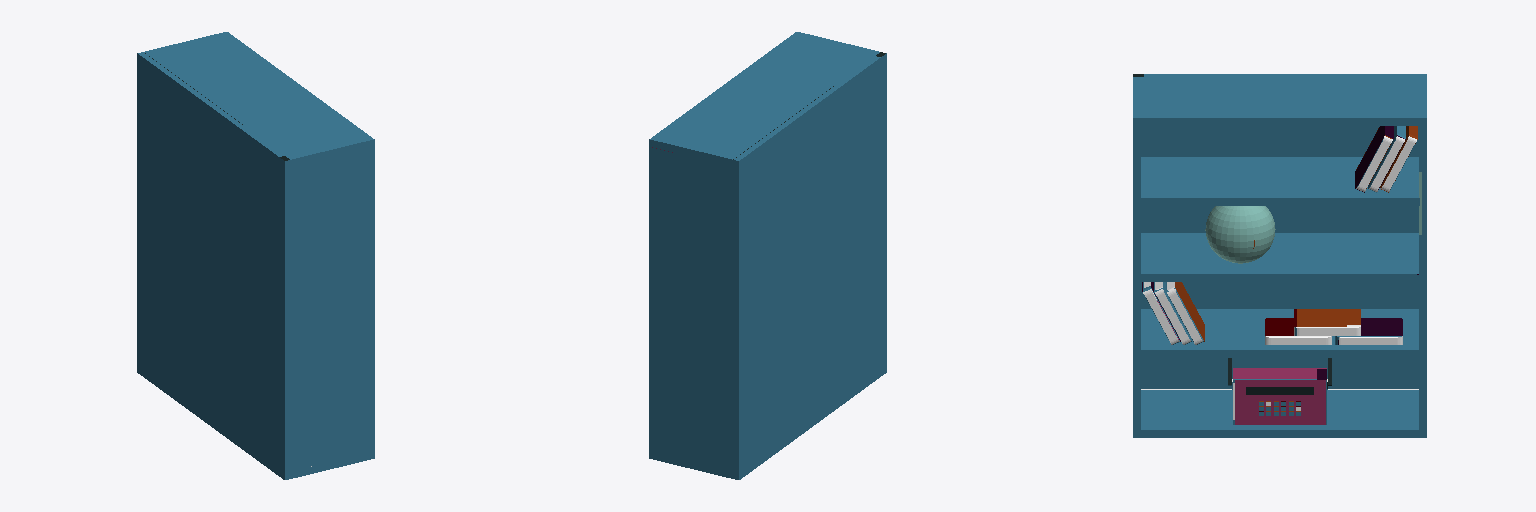
The picture shows the model from 3 angles: view 1: azimuth 30°, elevation 25°; view 2: azimuth 150°, elevation 25°; view 3: azimuth 270°, elevation 25°; orthographic projection.
Parts seen in each view (by area): view 1: Cube.044_Cube.045; view 2: Cube.044_Cube.045; view 3: Cube.044_Cube.045.
Part boxes in pixels (x1,y1,x2,y2): Cube.044_Cube.045: (137, 32, 374, 479); Cube.044_Cube.045: (649, 32, 886, 479); Cube.044_Cube.045: (1133, 74, 1426, 437).
Bounding box in the file's own units: 6.25 × 21.25 × 17.77.
Materials: 1 (1 with a texture image).